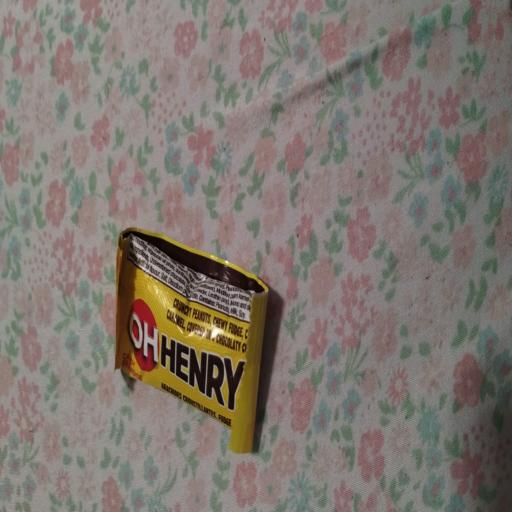chocolate: (116, 229, 267, 452)
